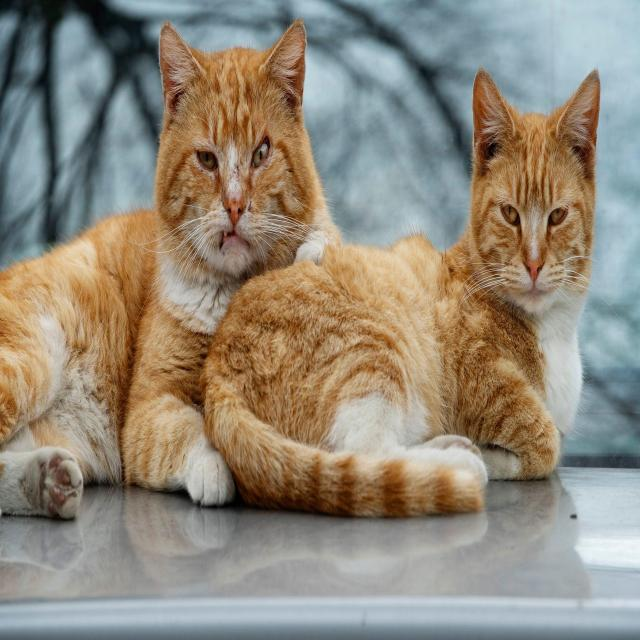Cat: (152, 13, 323, 283), (466, 60, 607, 318)
